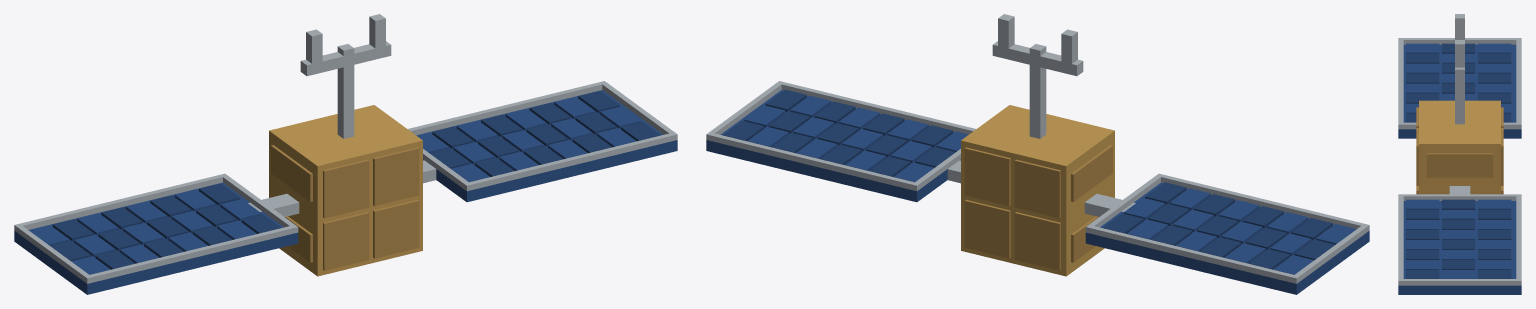
Rendered from NEW_RECOVERY_077_LOD0.glb.
3 renders of one model, left to right at view 1: azimuth 30°, elevation 25°; view 2: azimuth 150°, elevation 25°; view 3: azimuth 270°, elevation 25°, orthographic. The views are drawn at different scales.
Parts seen in each view (by area): view 1: Satellite; view 2: Satellite; view 3: Satellite.
Boxes of the visible parts, bbox=[...] form: Satellite: bbox=[14, 14, 677, 294]; Satellite: bbox=[706, 14, 1369, 294]; Satellite: bbox=[1398, 14, 1521, 294].
Bounding box in the file's own units: 7 × 2.5 × 1.5.
